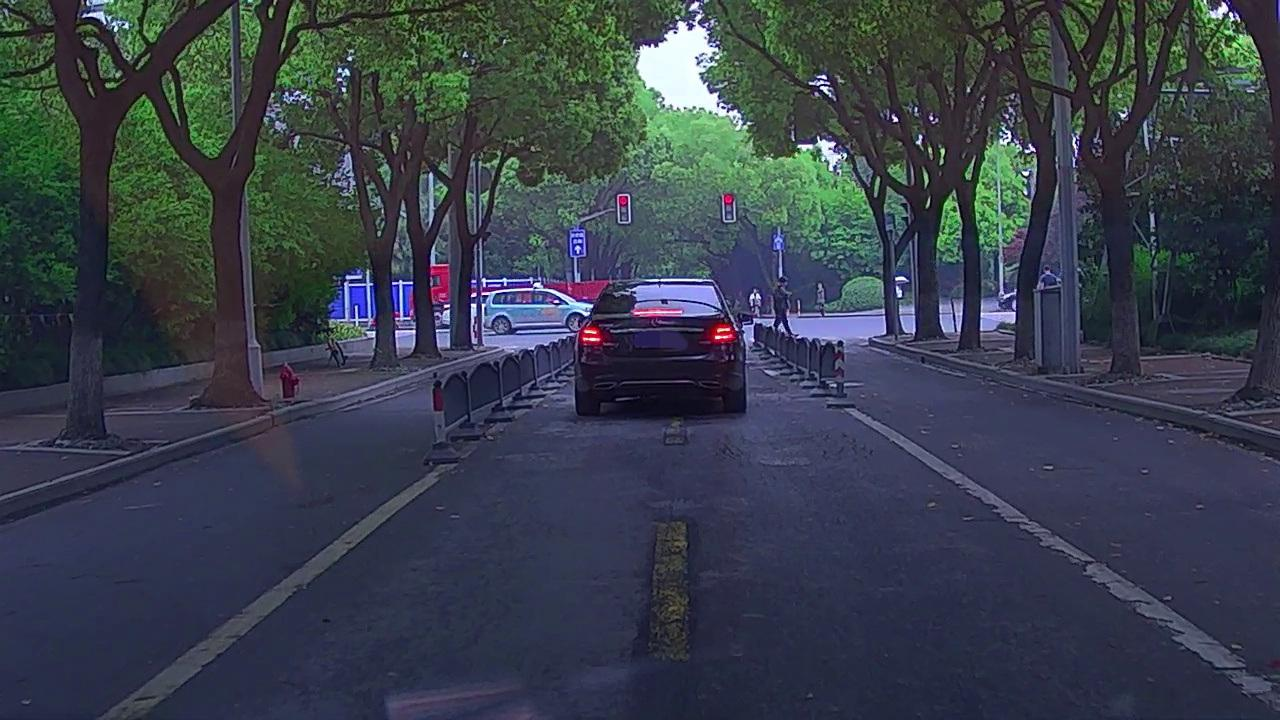traffic_light: (618, 196, 629, 222), (724, 194, 735, 220)
